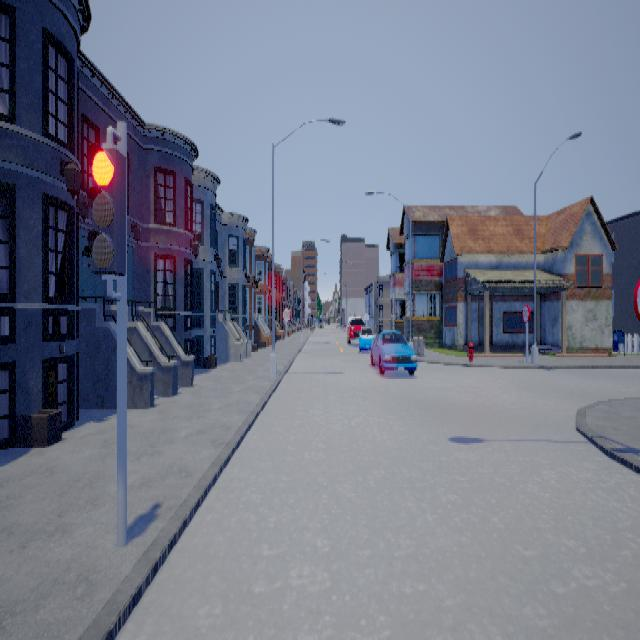red_light: (88, 124, 127, 300)
traffic_sign: (635, 278, 640, 320), (523, 303, 531, 322), (284, 307, 292, 320)
vehicle: (371, 327, 419, 377), (359, 322, 378, 350), (347, 315, 366, 342)
